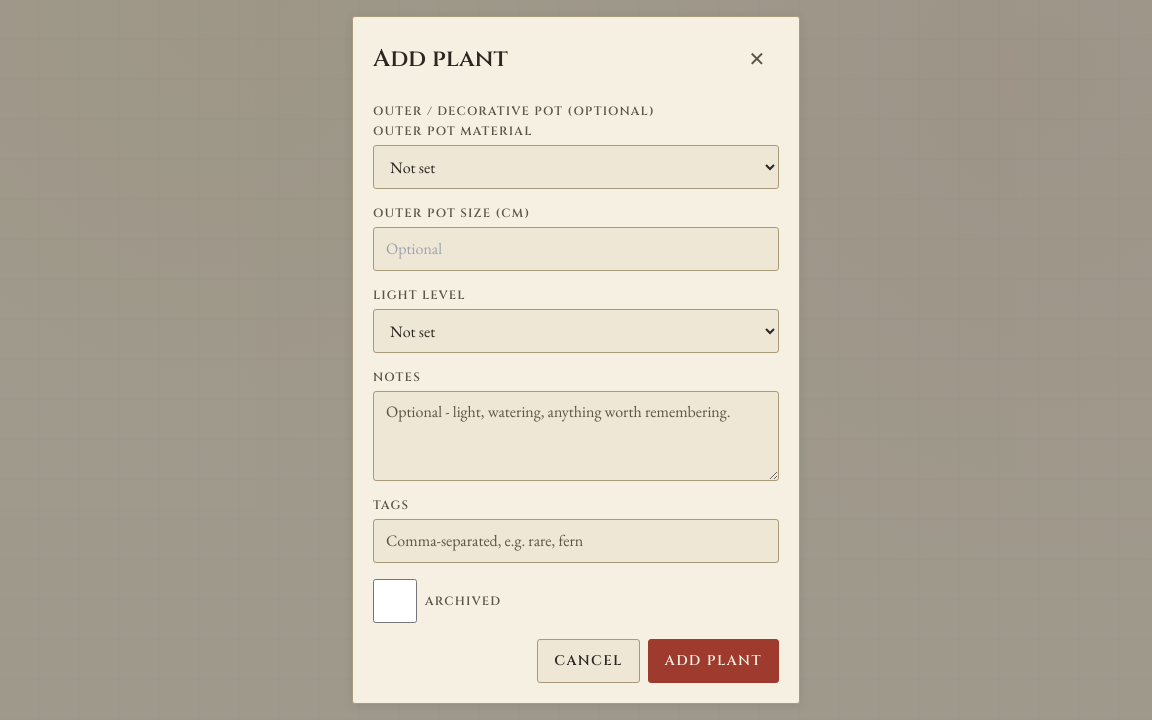
PlantFormModal partial fill and required-name guard › blocks submit and explains when the name is empty
(page scrolled)
Click the button "Add plant" at (713, 661), box [648,639,779,683]
(page scrolled)
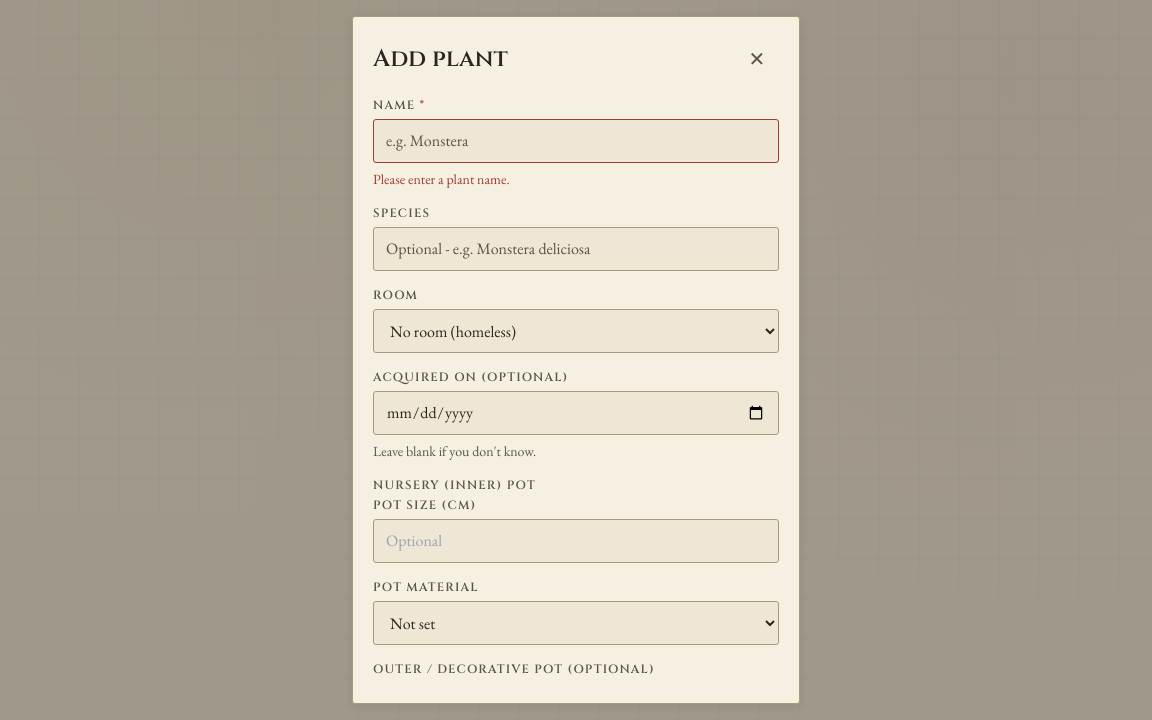
Result: the text "Please enter a plant name." is shown at [373,170,510,188]
